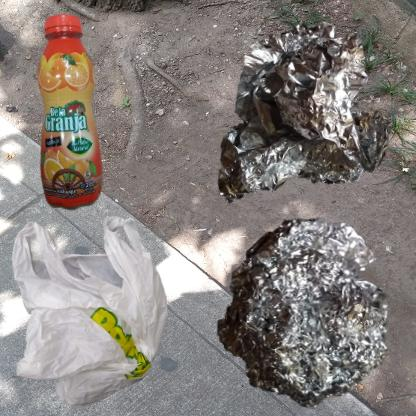aluminio: (213, 10, 407, 226), (213, 213, 392, 412)
bolsa: (10, 213, 172, 412)
botella: (10, 10, 146, 239)
